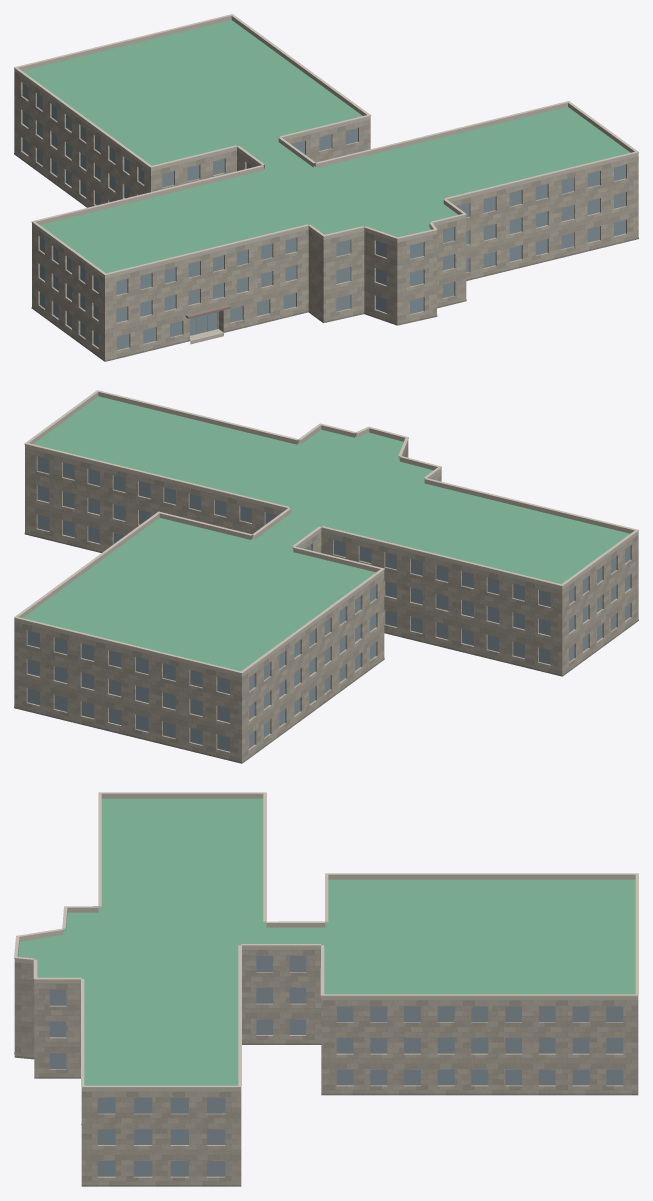
The picture shows the model from 3 angles, top to bottom: view 1: azimuth 30°, elevation 25°; view 2: azimuth 150°, elevation 25°; view 3: azimuth 270°, elevation 25°; orthographic projection. The views are drawn at different scales.
Parts seen in each view (by area): view 1: osm639992761__roof, osm639992761__wall, osm639992761__glass, osm639992761__parapet, osm639992761__trim, osm639992761__base; view 2: osm639992761__roof, osm639992761__wall, osm639992761__glass, osm639992761__parapet, osm639992761__trim, osm639992761__base; view 3: osm639992761__roof, osm639992761__wall, osm639992761__glass, osm639992761__parapet, osm639992761__trim, osm639992761__base.
Boxes of the visible parts, left/top/right/bottom form: osm639992761__roof: left=23, top=20, right=630, bottom=325; osm639992761__wall: left=14, top=72, right=638, bottom=361; osm639992761__glass: left=22, top=83, right=625, bottom=350; osm639992761__parapet: left=14, top=15, right=638, bottom=278; osm639992761__trim: left=14, top=14, right=638, bottom=275; osm639992761__base: left=14, top=153, right=638, bottom=361; osm639992761__roof: left=23, top=396, right=629, bottom=671; osm639992761__wall: left=14, top=442, right=638, bottom=763; osm639992761__glass: left=27, top=456, right=630, bottom=751; osm639992761__parapet: left=14, top=392, right=638, bottom=677; osm639992761__trim: left=14, top=390, right=638, bottom=673; osm639992761__base: left=14, top=532, right=638, bottom=763; osm639992761__roof: left=18, top=798, right=635, bottom=1085; osm639992761__wall: left=14, top=950, right=638, bottom=1184; osm639992761__glass: left=49, top=956, right=623, bottom=1176; osm639992761__parapet: left=14, top=793, right=638, bottom=1091; osm639992761__trim: left=14, top=792, right=638, bottom=1087; osm639992761__base: left=14, top=1043, right=638, bottom=1186.
Bounding box in the file's own units: 71.99 × 11.75 × 64.51.
10 materials, 2 textured.
